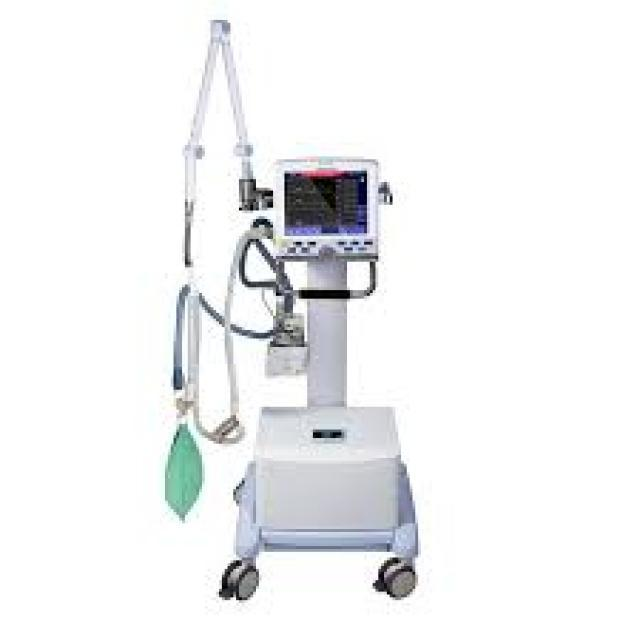ventilator: (143, 12, 466, 610)
